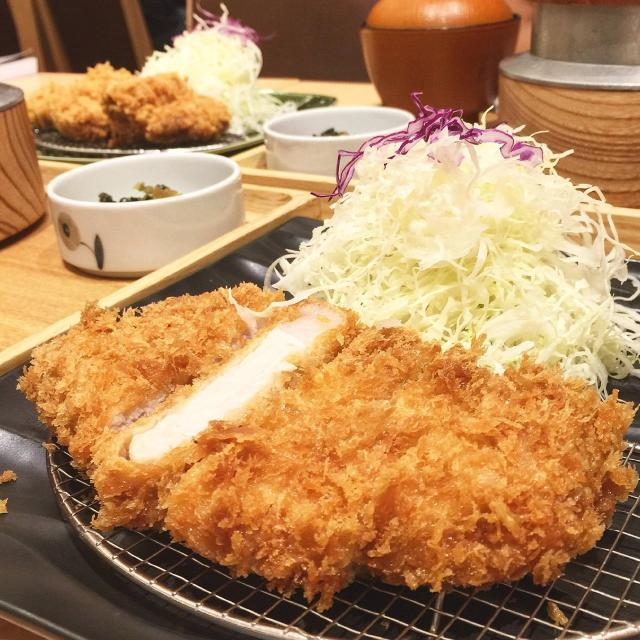cac loai rau cu: (285, 104, 640, 388), (145, 14, 270, 129)
thit heo: (24, 292, 623, 596), (24, 65, 230, 157)
thit heo chien xu tonkatsu: (24, 99, 640, 640), (22, 5, 337, 161)
